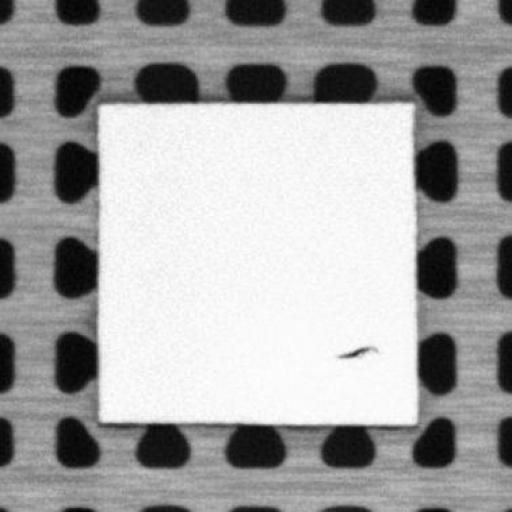DIE_INK: (336, 343, 378, 361)
